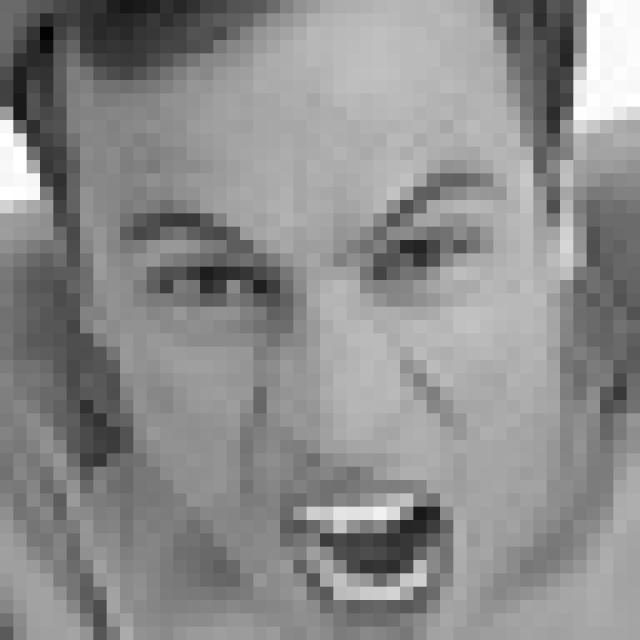angry: (121, 164, 518, 622)
